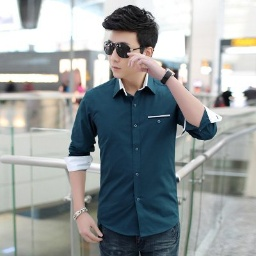face: (103, 5, 160, 82)
